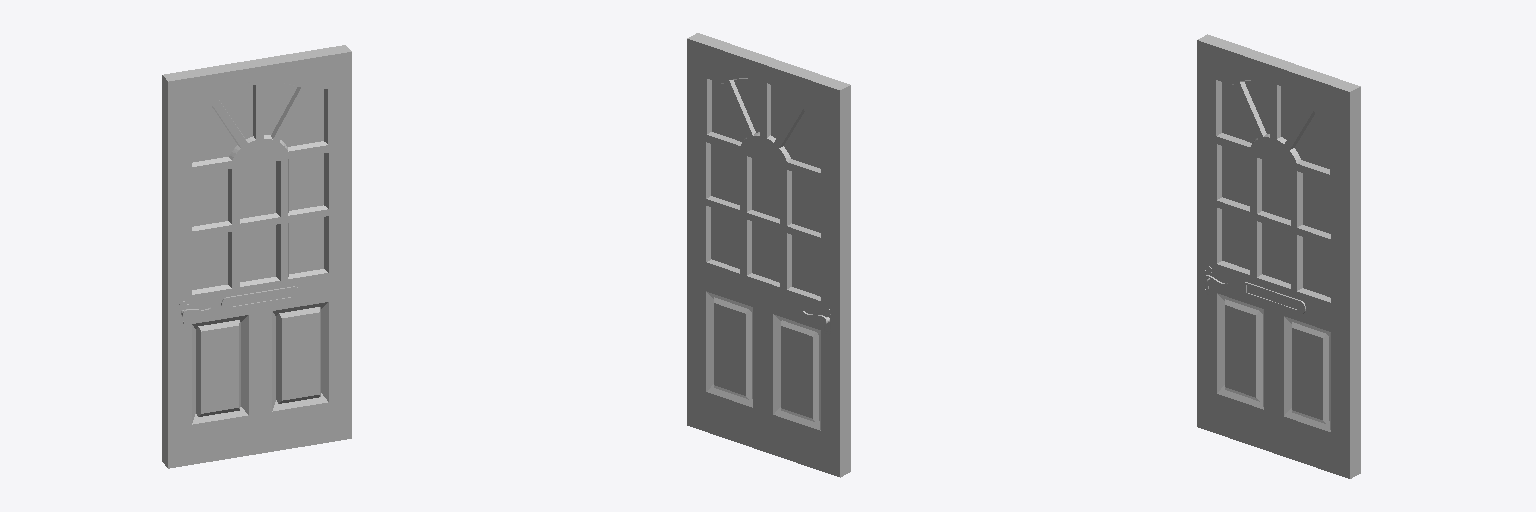
The model's file is door_000016.obj.
3 renders of one model, left to right at view 1: azimuth 30°, elevation 25°; view 2: azimuth 150°, elevation 25°; view 3: azimuth 330°, elevation 25°, orthographic.
Parts seen in each view (by area): view 1: Door.003; view 2: Door.003; view 3: Door.003.
Boxes of the visible parts, <box> form: Door.003: <box>162,45,351,468</box>; Door.003: <box>687,33,850,477</box>; Door.003: <box>1197,34,1360,478</box>.
Bounding box in the file's own units: 0.7406 × 1.6 × 0.1944.